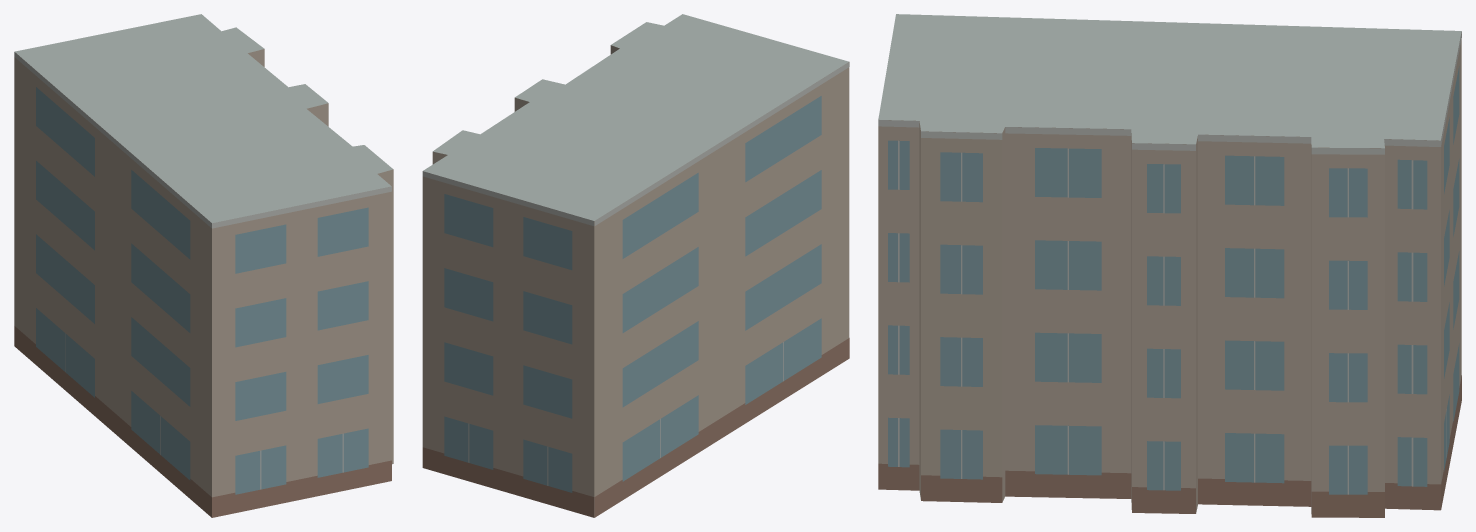
The model's file is survey-upis-32750024.glb.
The picture shows the model from 3 angles, left to right: view 1: azimuth 30°, elevation 25°; view 2: azimuth 150°, elevation 25°; view 3: azimuth 270°, elevation 25°; orthographic projection. The views are drawn at different scales.
Visible parts, largest first — view 1: survey-upis-32750024.tmp; view 2: survey-upis-32750024.tmp; view 3: survey-upis-32750024.tmp.
Boxes of the visible parts, box(x1,y1,x2,y2) form: survey-upis-32750024.tmp: box(14, 14, 393, 517); survey-upis-32750024.tmp: box(422, 14, 849, 517); survey-upis-32750024.tmp: box(878, 14, 1461, 517).
Size of the model in its own units: 10.59 by 13.6 by 19.46.
